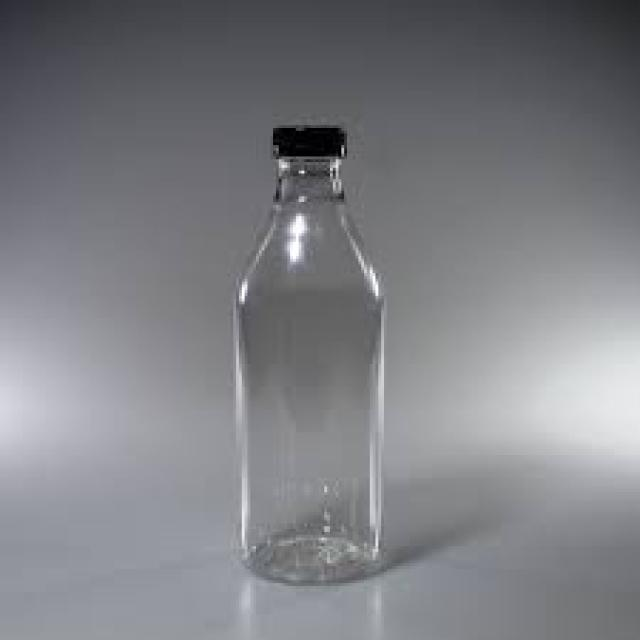bottom: (232, 506, 384, 595)
cap: (255, 113, 349, 198)
